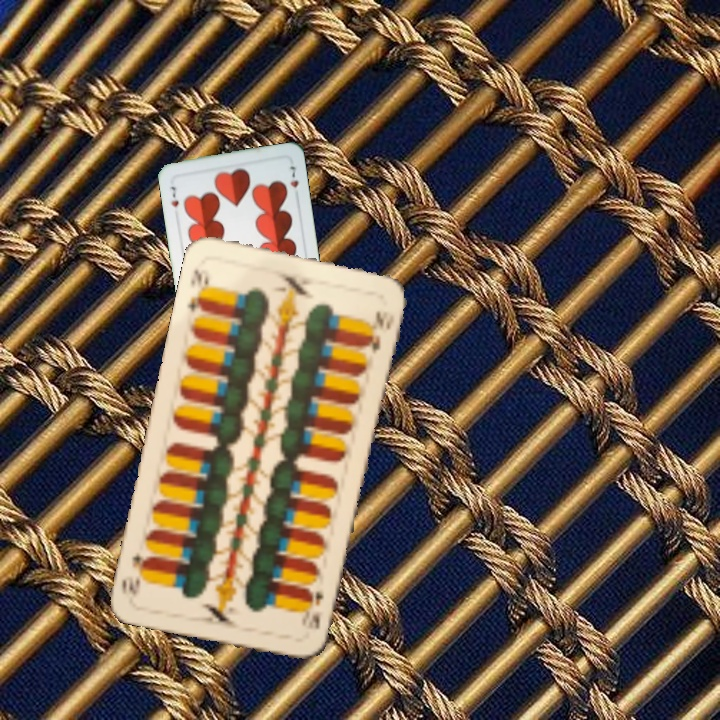E10: (183, 265, 212, 314), (300, 587, 326, 633)
H7: (167, 181, 181, 209)
